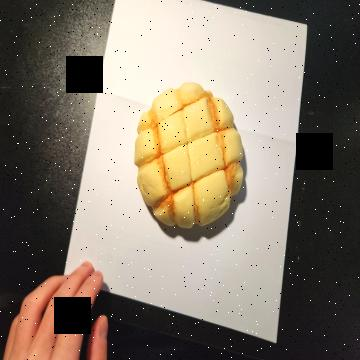melon_bread: (132, 81, 247, 231)
